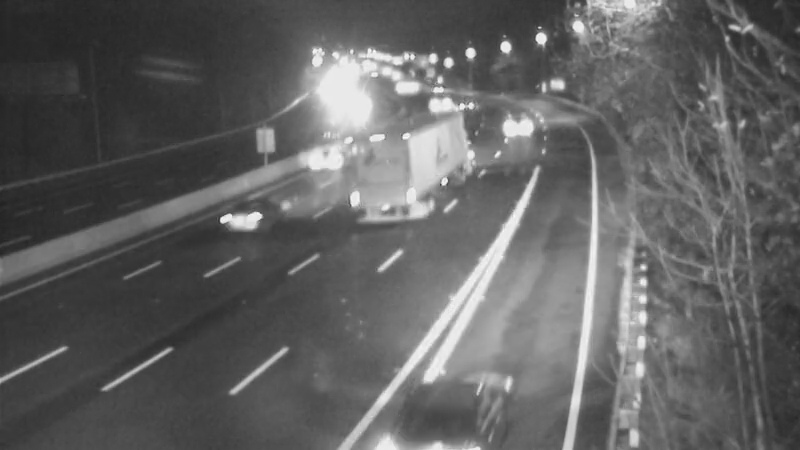vehicle: (379, 354, 489, 450), (343, 129, 423, 209), (192, 173, 272, 253), (287, 114, 367, 194), (374, 63, 424, 113), (411, 63, 461, 113), (437, 83, 487, 133), (411, 84, 461, 134), (484, 97, 534, 147), (325, 81, 375, 131)
